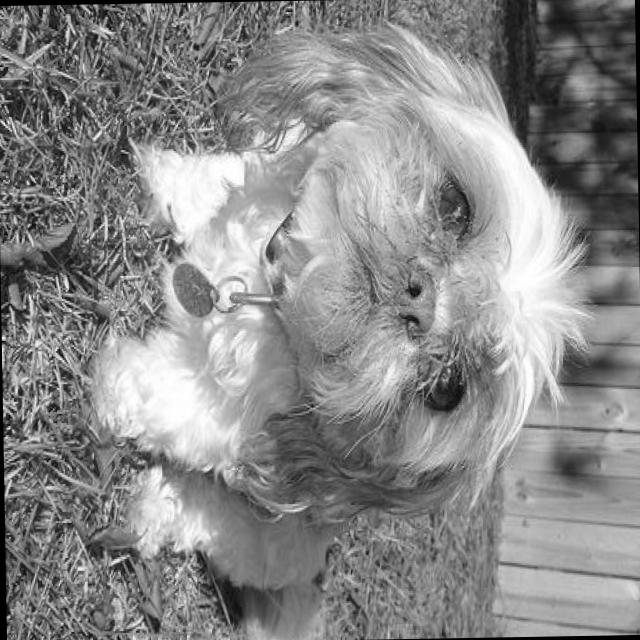sitting: (81, 15, 598, 640)
